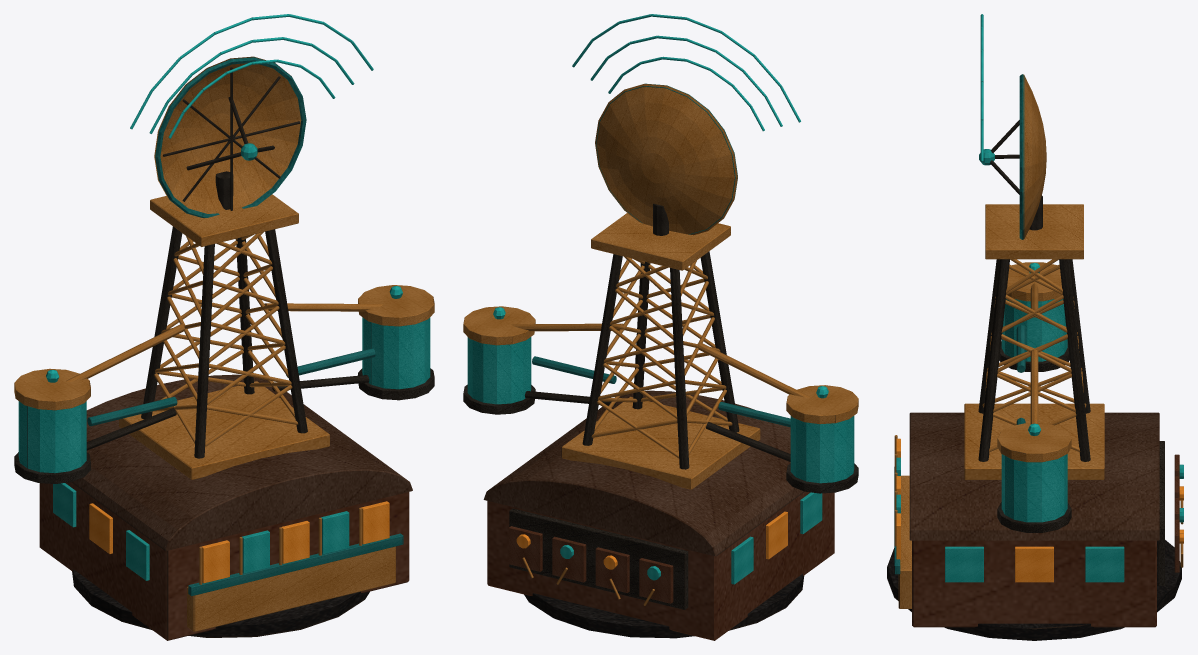
Rendered from relay-tower.glb.
3 views of the same model, side by side, from view 1: azimuth 30°, elevation 25°; view 2: azimuth 150°, elevation 25°; view 3: azimuth 270°, elevation 25° (orthographic). The views are drawn at different scales.
Parts seen in each view (by area): view 1: RelayTowerE7; view 2: RelayTowerE7; view 3: RelayTowerE7.
Boxes of the visible parts, x1,y1,x2,y2 form: RelayTowerE7: (14, 14, 434, 640); RelayTowerE7: (463, 14, 858, 640); RelayTowerE7: (887, 14, 1183, 640).
Size of the model in its own units: 7.43 by 9.99 by 4.87.
Materials: 1 (1 with a texture image).
